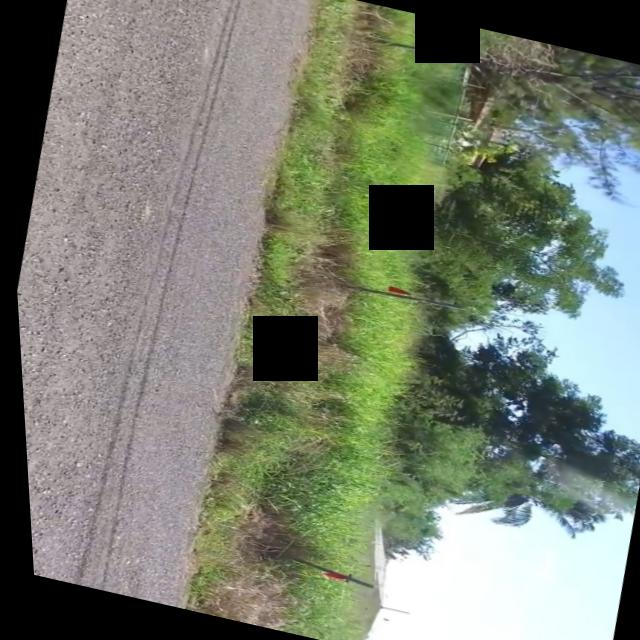Pole: (337, 274, 462, 319), (378, 34, 486, 72), (274, 554, 367, 596)
